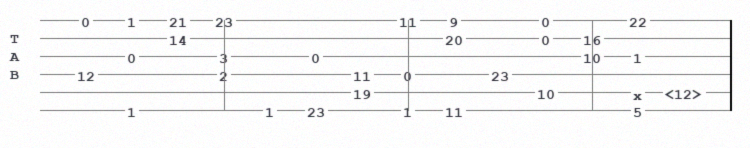0: (81, 14, 94, 27), (127, 50, 140, 63), (311, 50, 324, 63), (403, 68, 416, 81), (541, 14, 554, 27), (541, 32, 554, 45)
1: (127, 104, 140, 117), (127, 14, 140, 27), (265, 104, 278, 117), (403, 104, 416, 117), (633, 50, 646, 63)
10: (537, 86, 559, 99), (583, 50, 605, 63)
11: (353, 68, 375, 81), (399, 14, 421, 27), (445, 104, 467, 117)
12: (77, 68, 99, 81)
14: (169, 32, 191, 45)
16: (583, 32, 605, 45)
19: (353, 86, 375, 99)
2: (219, 68, 232, 81)
20: (445, 32, 467, 45)
21: (169, 14, 191, 27)
22: (629, 14, 651, 27)
23: (215, 14, 237, 27), (307, 104, 329, 117), (491, 68, 513, 81)
3: (219, 50, 232, 63)
5: (633, 104, 646, 117)
9: (449, 14, 462, 27)
harmonic: (665, 86, 707, 99)
x: (633, 87, 646, 97)
